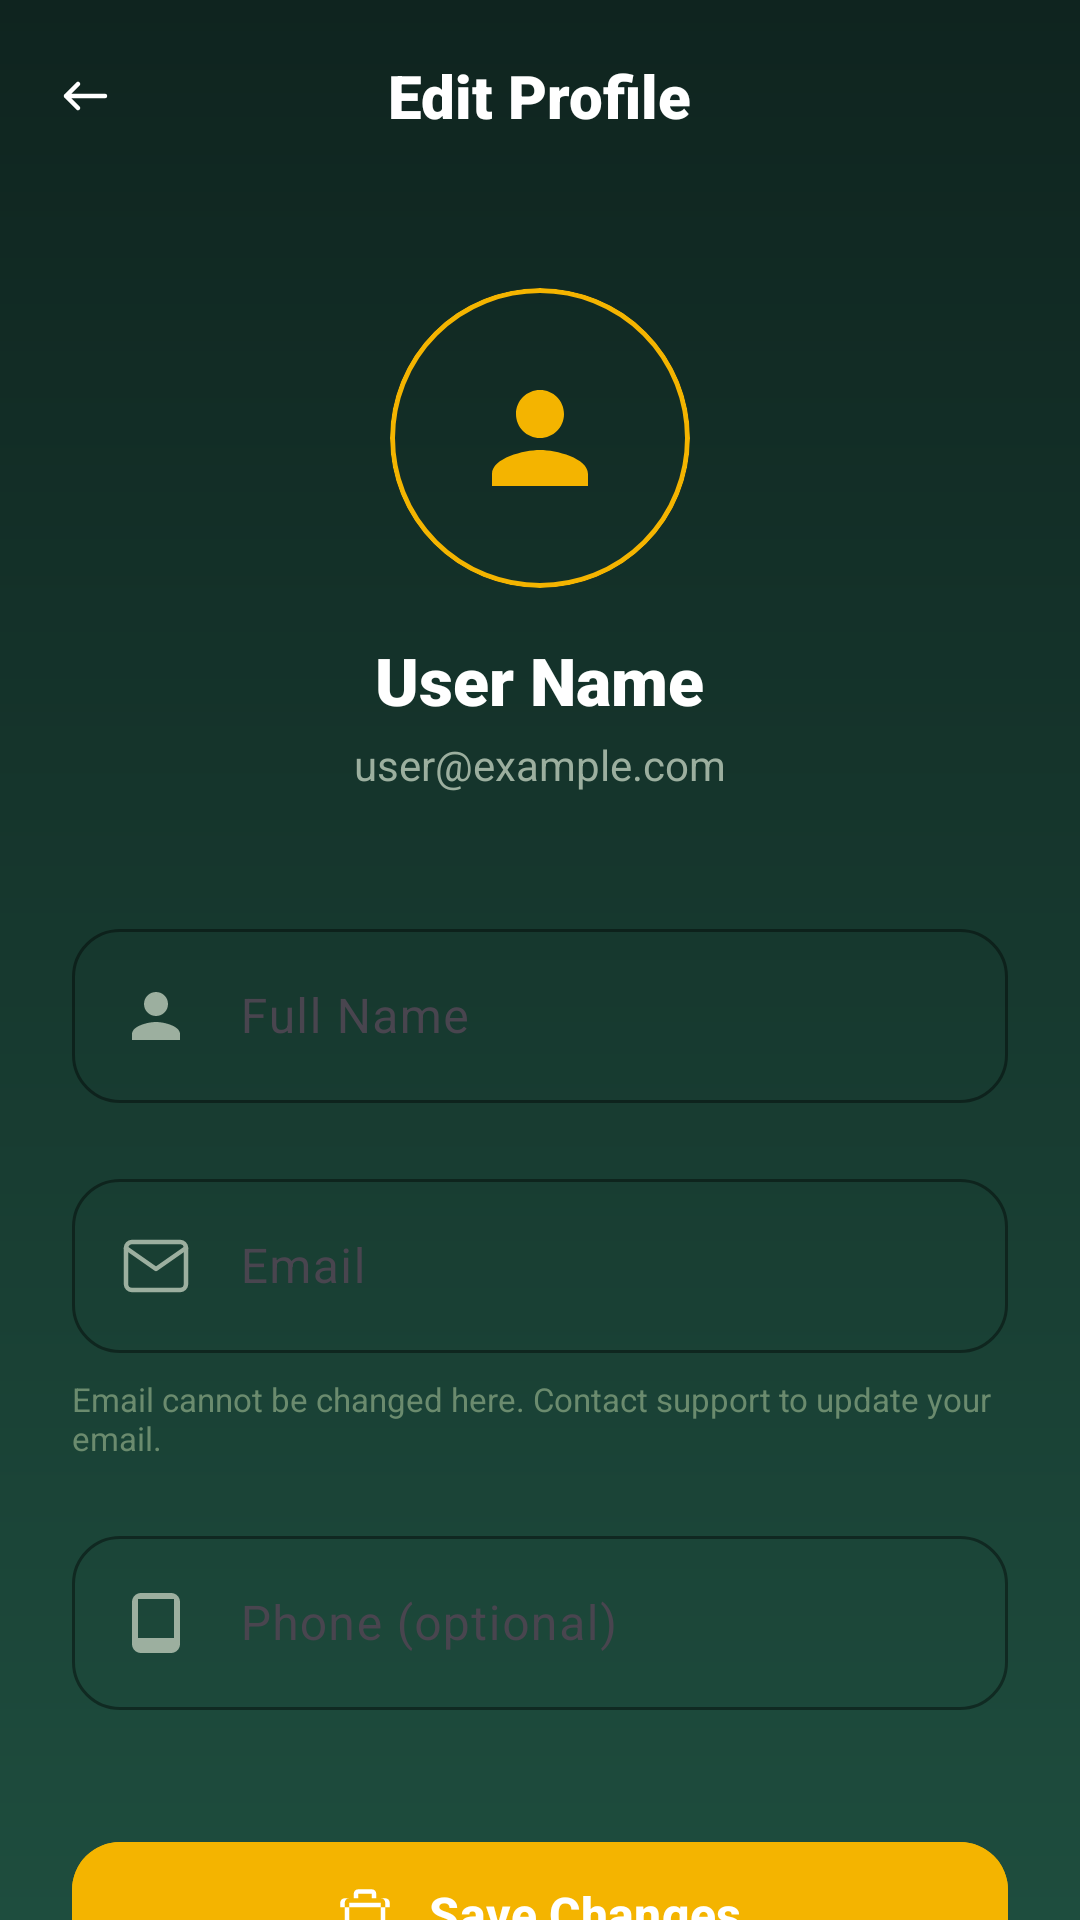

Where icons sit on this 1080px x 1920px app screen, as (x1, y1, x2, y2):
profile: (492, 390, 588, 486)
